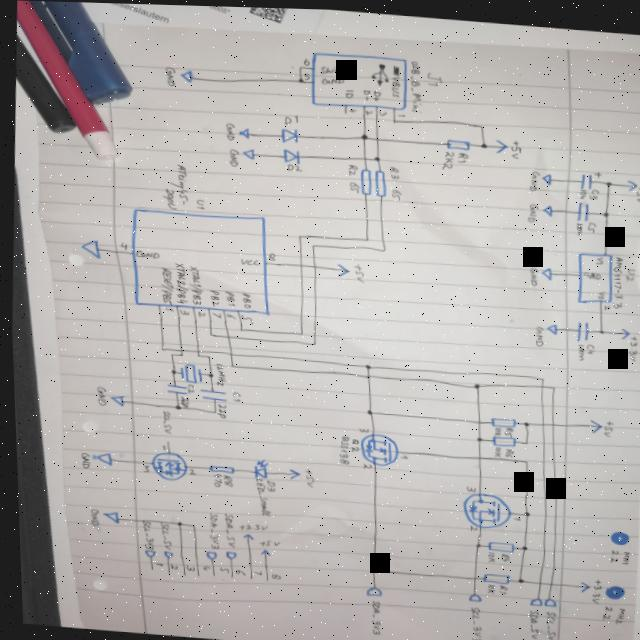capacitor: (195, 387, 226, 401), (578, 167, 600, 186), (573, 198, 589, 219), (572, 317, 586, 338), (163, 383, 184, 394)
crossover: (530, 576, 539, 583), (361, 372, 369, 378), (543, 578, 551, 584), (372, 135, 378, 141), (546, 419, 552, 424), (535, 419, 541, 424), (309, 263, 315, 268), (295, 262, 301, 267), (472, 417, 478, 421), (472, 453, 478, 457), (360, 155, 366, 159), (467, 574, 473, 578), (536, 382, 541, 386), (223, 334, 228, 338), (225, 351, 230, 355), (193, 348, 198, 352), (176, 348, 181, 352)
diode: (278, 125, 298, 143), (249, 456, 265, 478), (280, 147, 300, 163)
ground: (76, 238, 99, 259), (90, 450, 110, 467), (97, 509, 116, 525), (105, 393, 122, 407), (239, 146, 254, 159), (538, 201, 552, 214), (236, 125, 249, 138), (539, 170, 551, 183)
junction: (362, 406, 372, 414), (477, 139, 486, 147), (546, 381, 554, 388), (469, 540, 478, 546), (365, 565, 374, 571), (517, 455, 526, 461), (518, 436, 527, 442), (518, 508, 527, 514), (296, 76, 303, 83), (516, 542, 524, 548), (359, 132, 367, 138), (361, 362, 369, 368), (600, 208, 608, 214), (371, 154, 379, 160), (603, 177, 611, 183), (470, 380, 478, 386), (512, 575, 520, 581), (518, 418, 526, 424), (476, 121, 484, 127), (361, 235, 369, 241), (378, 245, 386, 251), (535, 373, 543, 379), (205, 330, 212, 336), (157, 346, 164, 351), (171, 404, 178, 409), (472, 434, 478, 439), (308, 340, 314, 345), (172, 520, 178, 525), (205, 371, 211, 376), (167, 368, 173, 373), (308, 242, 314, 246), (295, 330, 301, 334), (295, 233, 301, 237), (227, 363, 232, 367), (176, 352, 181, 356), (596, 326, 601, 330), (203, 354, 208, 358), (235, 326, 240, 330), (391, 118, 396, 122), (297, 64, 302, 68), (193, 353, 197, 357), (209, 409, 213, 413), (188, 524, 192, 527), (166, 352, 170, 355)
resistor: (371, 167, 386, 195), (357, 166, 371, 194), (482, 538, 511, 550), (443, 136, 470, 148), (477, 570, 506, 581), (487, 433, 513, 445), (486, 414, 513, 425), (205, 463, 231, 473)
source: (584, 415, 600, 431), (493, 136, 508, 152), (537, 263, 552, 279), (178, 68, 193, 83), (541, 319, 556, 333), (333, 261, 348, 275), (574, 577, 586, 591), (624, 176, 637, 188), (617, 324, 628, 337), (237, 532, 250, 539), (255, 548, 266, 555)
terminal: (360, 582, 378, 596), (462, 590, 479, 601), (284, 467, 298, 479), (524, 594, 538, 604), (200, 549, 213, 559), (538, 595, 552, 604), (139, 548, 151, 558), (220, 549, 232, 559), (158, 549, 169, 558), (207, 572, 211, 576), (145, 566, 149, 570), (162, 570, 167, 573), (260, 578, 264, 581), (244, 576, 248, 578), (225, 574, 229, 576), (192, 574, 196, 576), (178, 573, 182, 575)
text: (406, 58, 424, 111), (165, 163, 188, 204), (170, 259, 188, 307), (183, 263, 203, 306), (249, 476, 269, 516), (155, 265, 174, 305), (608, 252, 622, 306), (202, 510, 217, 549), (463, 603, 478, 640), (364, 597, 379, 634), (218, 511, 233, 547), (317, 60, 348, 75), (538, 608, 553, 639), (136, 519, 151, 550), (154, 520, 168, 550), (159, 186, 177, 209), (522, 606, 535, 637), (334, 433, 347, 462), (348, 260, 364, 282), (389, 70, 402, 97), (211, 361, 225, 386), (156, 410, 170, 435), (585, 575, 598, 601), (438, 147, 454, 168), (234, 521, 264, 532), (624, 331, 636, 358), (92, 384, 106, 407), (132, 248, 158, 260), (236, 289, 251, 309), (205, 287, 220, 307), (526, 166, 539, 189), (222, 121, 236, 142), (523, 199, 537, 220), (529, 323, 543, 344), (508, 136, 522, 157), (424, 69, 442, 85), (163, 65, 176, 87), (84, 508, 97, 529), (598, 416, 612, 435), (609, 603, 622, 623), (319, 74, 345, 84), (226, 147, 239, 166), (76, 451, 89, 470), (299, 466, 311, 486), (254, 537, 278, 547), (237, 255, 259, 265), (526, 264, 537, 284), (282, 112, 298, 125), (221, 289, 234, 305), (344, 161, 358, 175), (596, 602, 609, 617), (208, 471, 220, 487), (386, 164, 399, 178), (237, 312, 252, 324), (580, 267, 598, 277), (213, 402, 224, 418), (615, 546, 626, 562), (346, 179, 359, 192), (455, 149, 468, 162), (622, 264, 634, 278), (218, 473, 230, 486), (175, 394, 187, 407), (604, 546, 615, 560), (343, 86, 355, 98), (285, 162, 301, 171), (586, 185, 598, 197), (583, 218, 595, 230), (261, 478, 272, 491), (346, 436, 356, 450), (572, 218, 582, 232), (633, 181, 640, 200), (193, 197, 204, 209), (582, 340, 593, 352), (227, 390, 239, 401), (389, 186, 400, 198), (360, 87, 371, 99), (499, 424, 510, 435), (493, 582, 504, 593), (371, 87, 381, 99), (574, 341, 581, 357), (354, 423, 366, 432), (482, 548, 491, 560), (229, 567, 242, 575), (264, 250, 274, 260), (489, 424, 499, 434), (500, 445, 510, 455), (481, 581, 491, 591), (183, 382, 192, 393), (577, 185, 586, 196), (265, 571, 277, 579), (496, 550, 506, 559), (592, 253, 602, 262), (489, 444, 498, 454), (176, 308, 187, 316), (301, 56, 310, 65), (462, 482, 472, 490), (223, 311, 233, 319), (214, 565, 224, 573), (180, 563, 190, 571), (301, 71, 310, 79), (594, 288, 603, 296), (209, 311, 219, 318), (248, 568, 258, 575), (358, 461, 368, 468), (117, 242, 125, 250), (195, 309, 203, 317), (138, 464, 146, 472), (465, 522, 473, 530), (184, 467, 193, 474), (165, 562, 173, 569), (377, 108, 386, 114), (161, 306, 171, 311), (364, 108, 372, 114), (600, 301, 608, 307), (396, 452, 404, 457), (197, 565, 205, 570), (396, 111, 405, 115), (347, 107, 356, 111), (150, 562, 158, 566), (508, 513, 516, 517), (158, 443, 162, 449)
transistor: (455, 488, 509, 528), (355, 430, 396, 465), (147, 450, 184, 481)
